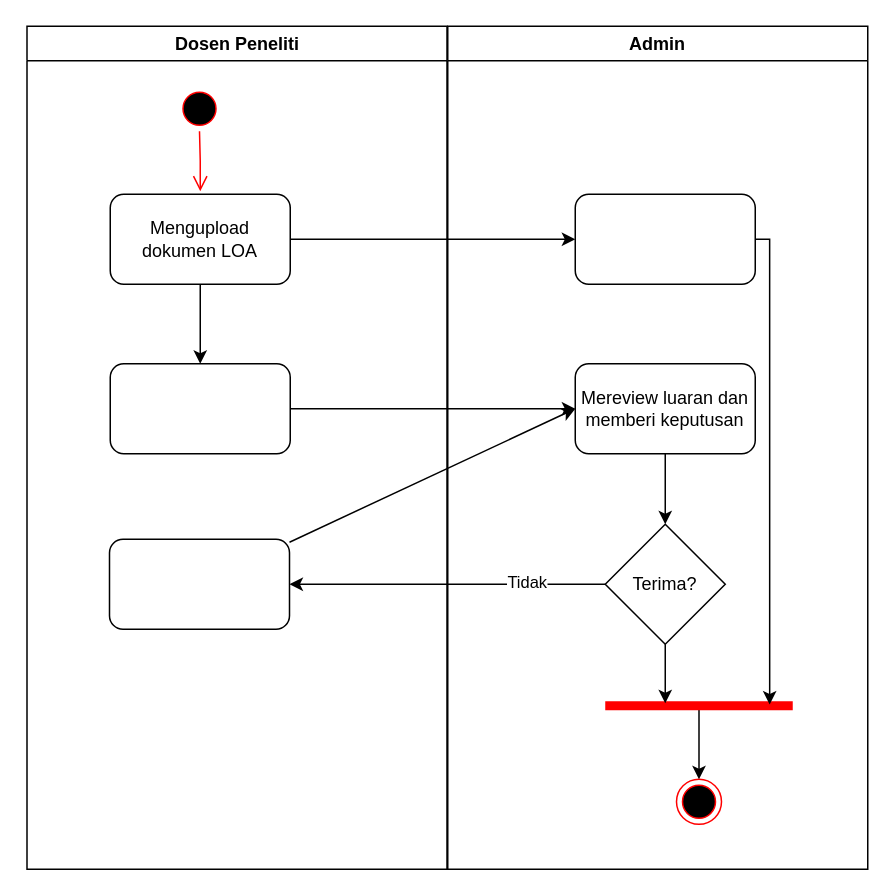
Image size: 894x896. Some labels were removed from this diagram. Each missing label, with the centre of its shape:
Alokasi dan pencairan dana tahap 2: point 664,238
Mengelola luaran: point 199,408
Revisi luaran: point 199,583
